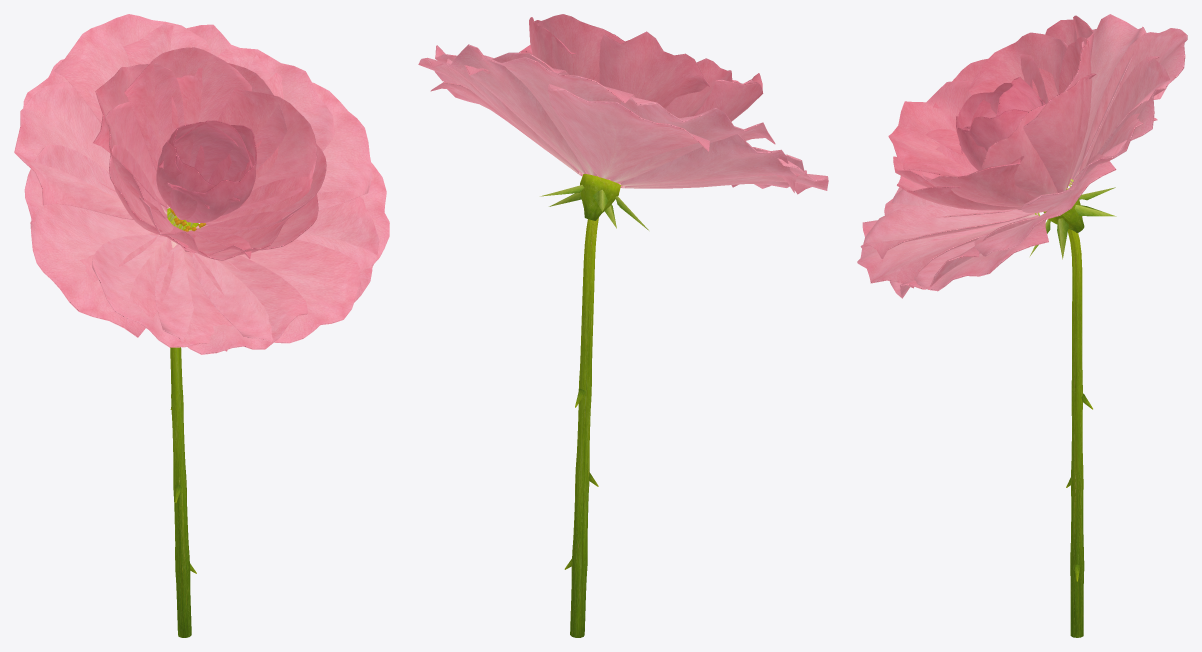
The model's file is rose_30.glb.
3 renders of one model, left to right at view 1: azimuth 30°, elevation 25°; view 2: azimuth 150°, elevation 25°; view 3: azimuth 270°, elevation 25°, orthographic. The views are drawn at different scales.
Parts seen in each view (by area): view 1: Petal_7_outer_03, Petal_4_outer_01, Petal_2_outer_02, Petal_6_outer_02, Petal_5_outer_04, Petal_0_outer_01, Petal_17_middle_02, Petal_19_middle_01, Petal_10_outer_01, Stem_Skinned, Petal_20_middle_03, Petal_11_outer_04 (+18 smaller); view 2: Petal_1_outer_03, Stem_Skinned, Petal_20_middle_03, Petal_3_outer_04, Petal_12_outer_02, Petal_2_outer_02, Petal_0_outer_01, Petal_19_middle_01, Hypanthium_and_five_sepals, Petal_22_middle_01, Petal_11_outer_04, Petal_4_outer_01 (+5 smaller); view 3: Petal_7_outer_03, Stem_Skinned, Petal_13_middle_03, Petal_18_middle_04, Petal_0_outer_01, Petal_12_outer_02, Petal_21_middle_02, Petal_2_outer_02, Petal_17_middle_02, Petal_16_middle_04, Petal_9_outer_03, Petal_10_outer_01 (+13 smaller).
Boxes of the visible parts, <box> form: Petal_7_outer_03: <box>192,239,360,343</box>; Petal_4_outer_01: <box>30,201,173,337</box>; Petal_2_outer_02: <box>14,81,133,219</box>; Petal_6_outer_02: <box>154,244,308,354</box>; Petal_5_outer_04: <box>92,234,231,351</box>; Petal_0_outer_01: <box>54,14,211,123</box>; Petal_17_middle_02: <box>218,88,317,212</box>; Petal_19_middle_01: <box>124,47,251,171</box>; Petal_10_outer_01: <box>265,72,372,210</box>; Stem_Skinned: <box>170,218,196,637</box>; Petal_20_middle_03: <box>93,63,184,208</box>; Petal_11_outer_04: <box>217,48,334,150</box>; Petal_1_outer_03: <box>548,84,709,179</box>; Stem_Skinned: <box>564,217,598,637</box>; Petal_20_middle_03: <box>599,31,709,108</box>; Petal_3_outer_04: <box>620,134,800,192</box>; Petal_12_outer_02: <box>446,44,586,173</box>; Petal_2_outer_02: <box>610,97,775,183</box>; Petal_0_outer_01: <box>479,55,635,175</box>; Petal_19_middle_01: <box>537,14,624,82</box>; Hypanthium_and_five_sepals: <box>540,174,648,230</box>; Petal_22_middle_01: <box>694,79,763,121</box>; Petal_11_outer_04: <box>435,45,578,173</box>; Petal_4_outer_01: <box>626,147,828,194</box>; Petal_7_outer_03: <box>857,204,1038,288</box>; Stem_Skinned: <box>1066,229,1092,637</box>; Petal_13_middle_03: <box>888,80,973,176</box>; Petal_18_middle_04: <box>1023,73,1096,192</box>; Petal_0_outer_01: <box>1079,28,1187,172</box>; Petal_12_outer_02: <box>1071,56,1169,185</box>; Petal_21_middle_02: <box>968,32,1073,95</box>; Petal_2_outer_02: <box>1069,14,1146,184</box>; Petal_17_middle_02: <box>980,103,1057,197</box>; Petal_16_middle_04: <box>922,156,1035,207</box>; Petal_9_outer_03: <box>914,207,1053,291</box>; Petal_10_outer_01: <box>974,154,1116,256</box>.
Size of the model in its own units: 0.2046 by 0.3301 by 0.1679.
Materials: 7 (7 with a texture image).
